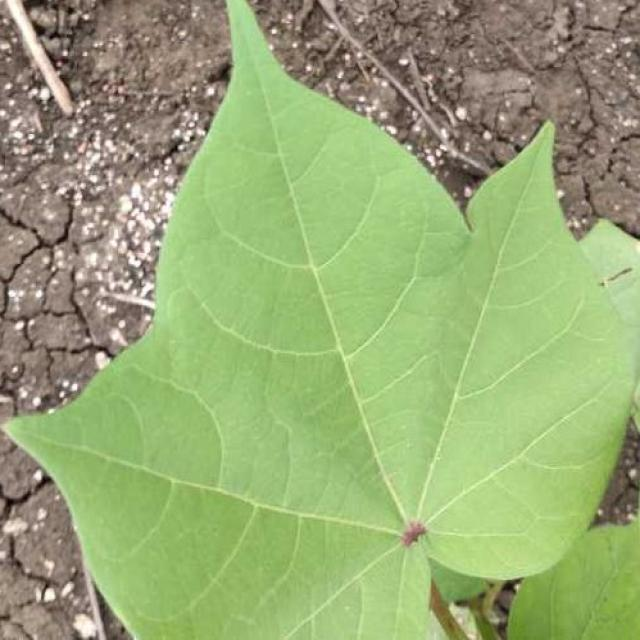Healthy Leaf: (100, 69, 640, 640)
